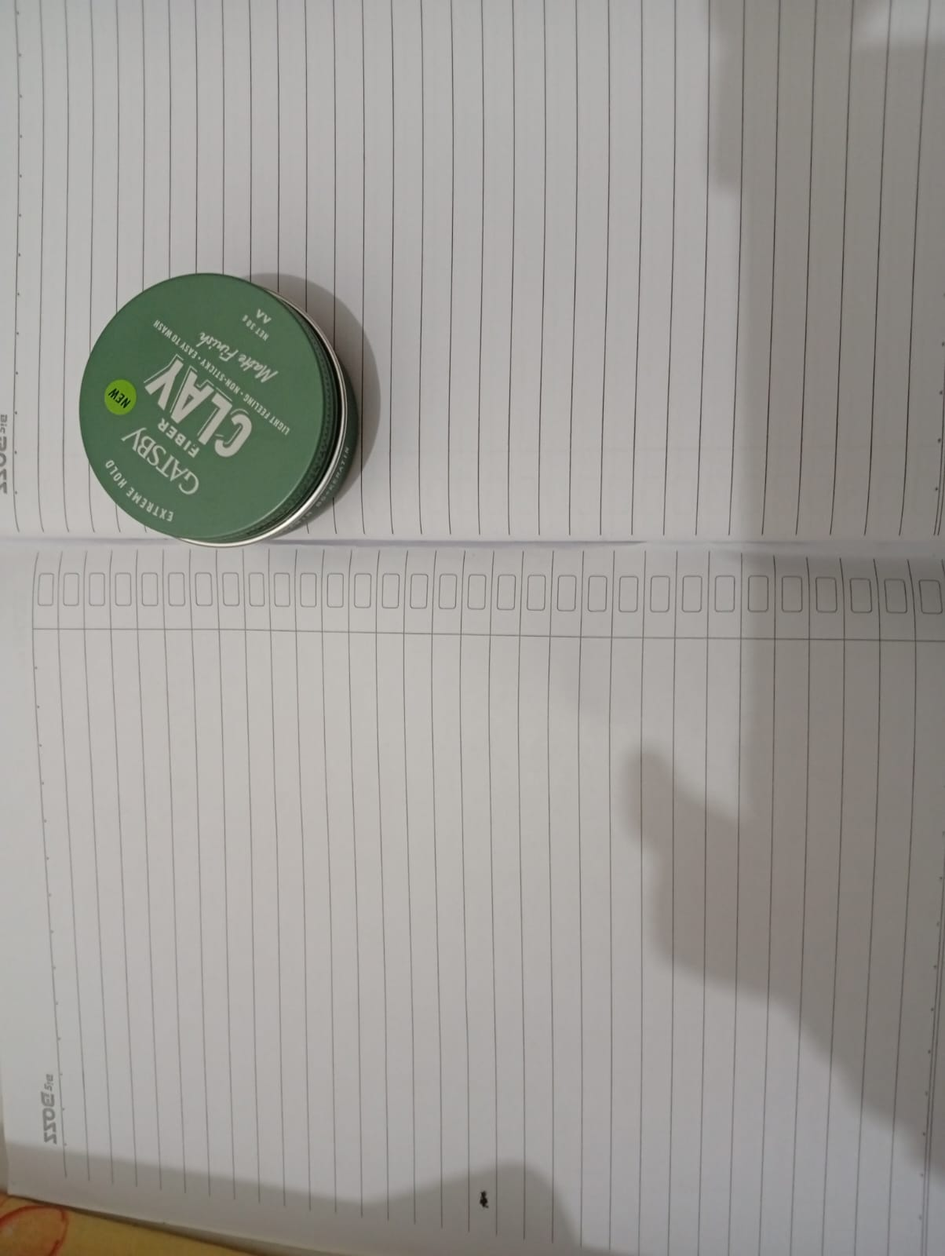Minyak_Rambut: (65, 248, 378, 564)
